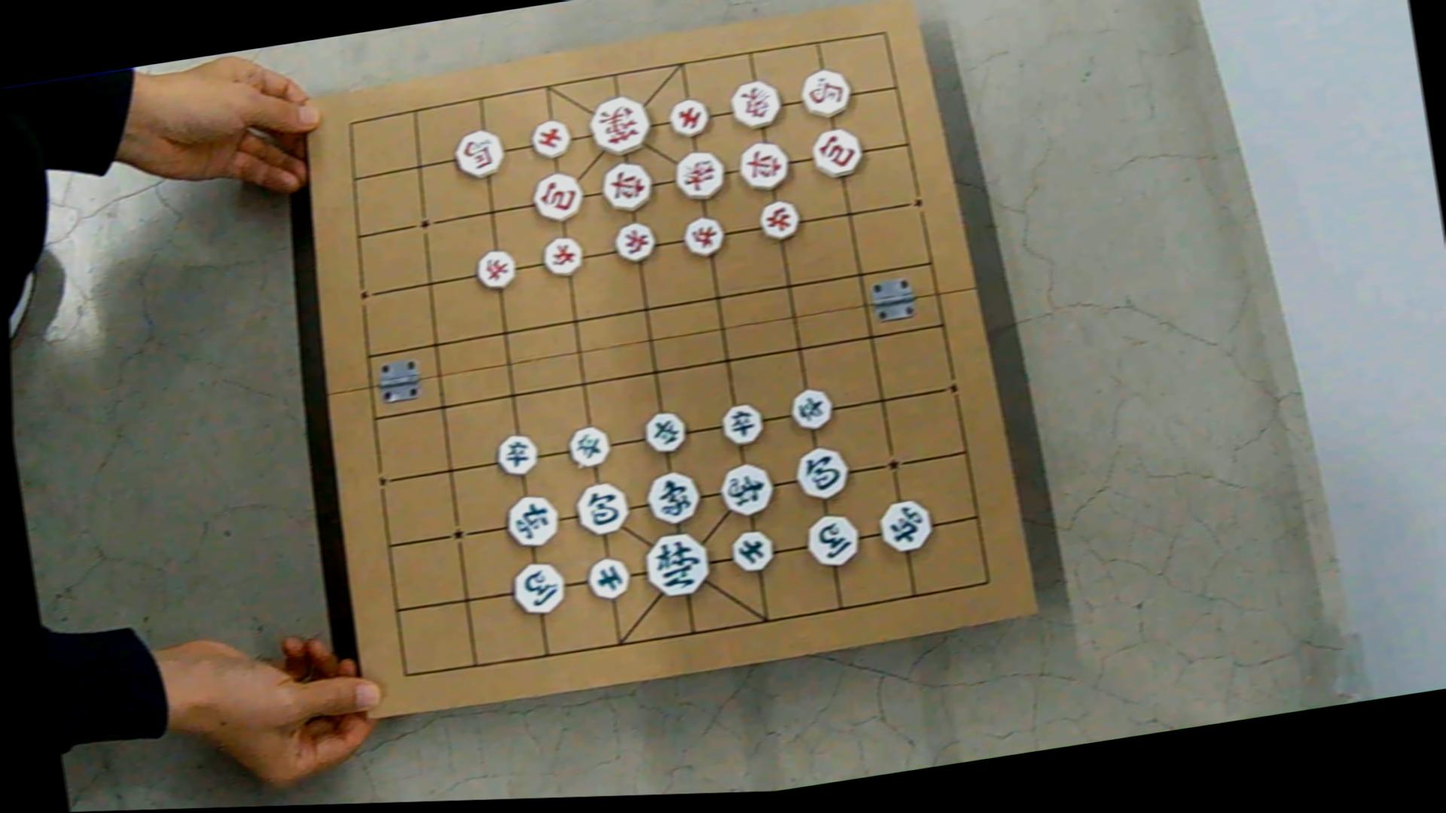cha_green: (502, 492, 560, 548), (875, 497, 932, 553)
cha_red: (598, 158, 652, 212), (734, 139, 789, 192)
jol_green: (493, 431, 538, 477), (718, 401, 763, 446), (788, 385, 833, 430), (565, 423, 610, 467), (641, 410, 687, 453)
jol_red: (755, 197, 801, 241), (471, 246, 516, 290), (611, 220, 656, 263), (539, 233, 583, 276), (681, 214, 725, 257)
ma_green: (508, 559, 564, 616), (804, 512, 860, 568)
ma_red: (797, 65, 852, 119), (452, 127, 506, 179)
po_green: (792, 443, 850, 501), (572, 480, 628, 536)
po_red: (529, 169, 583, 223), (808, 125, 863, 178)
sa_green: (584, 554, 630, 600), (728, 528, 773, 573)
sa_red: (527, 117, 572, 160), (666, 96, 709, 137)
sang_green: (717, 461, 774, 518), (643, 468, 700, 525)
sang_red: (671, 147, 725, 201), (727, 78, 782, 130)
wang_green: (641, 528, 710, 598)
wang_red: (586, 92, 651, 157)
